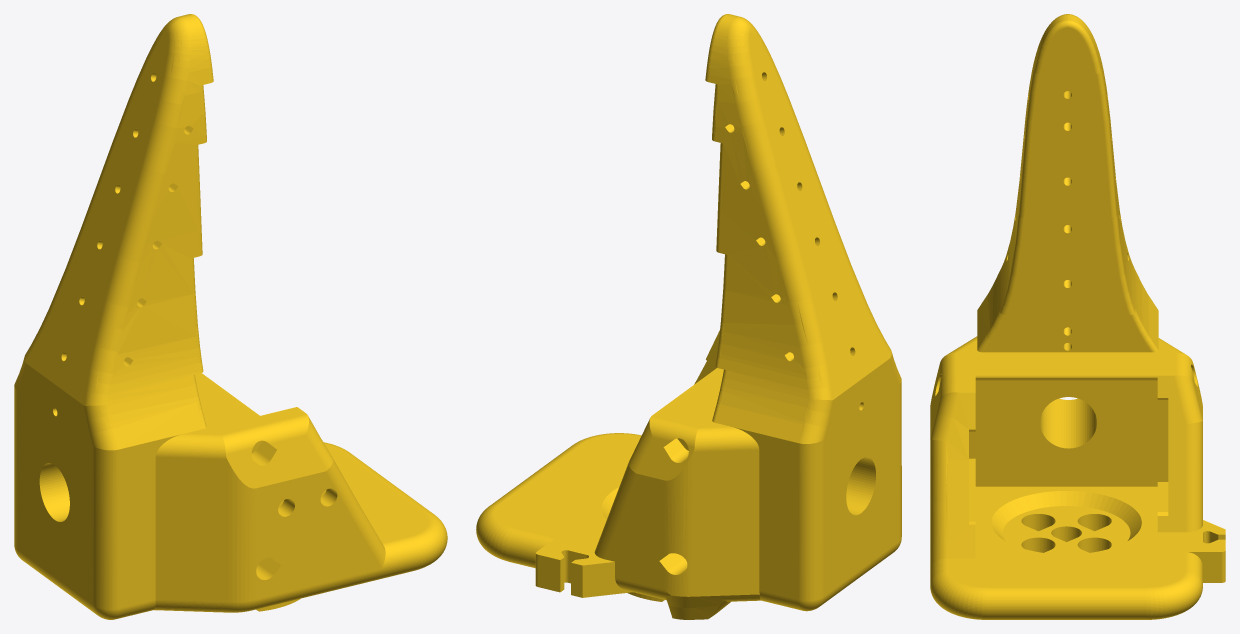
The model's file is wrist_roll_follower_so101_v1_stl.dae.
3 renders of one model, left to right at view 1: azimuth 30°, elevation 25°; view 2: azimuth 150°, elevation 25°; view 3: azimuth 270°, elevation 25°, orthographic. The views are drawn at different scales.
Visible parts, largest first — view 1: node0; view 2: node0; view 3: node0.
Part boxes in pixels (x1=…): node0: x1=14, y1=14, x2=447, y2=619; node0: x1=476, y1=14, x2=901, y2=619; node0: x1=930, y1=14, x2=1225, y2=619.
Bounding box in the file's own units: 0.0652 × 0.052 × 0.1054.
